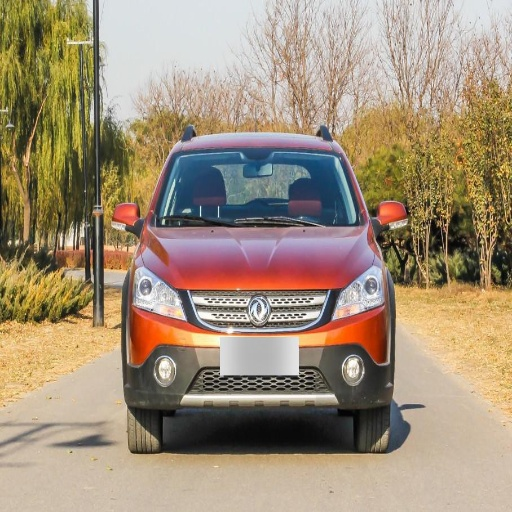front_bumper: (125, 289, 391, 409)
front_right_light: (130, 264, 189, 319)
hood: (141, 226, 376, 288)
